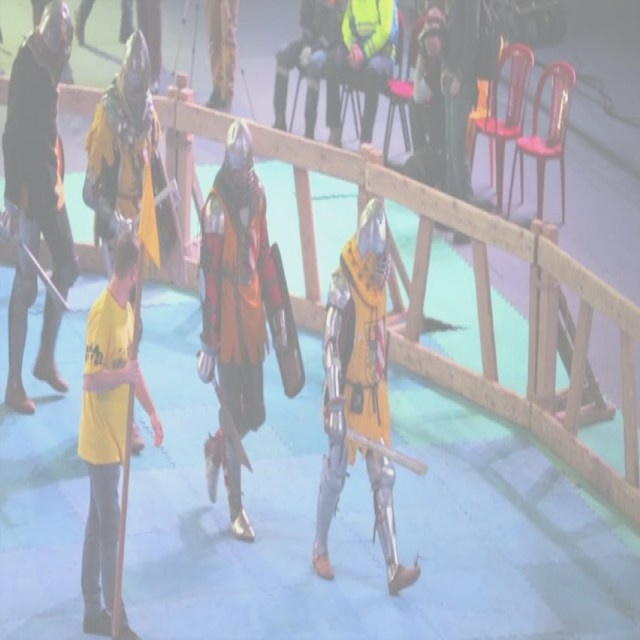pessoa: (310, 193, 422, 598), (196, 116, 289, 544), (80, 22, 164, 454), (76, 228, 164, 639), (0, 0, 84, 418), (323, 0, 394, 154), (270, 0, 339, 144), (440, 0, 480, 246), (413, 5, 447, 191), (197, 0, 246, 114), (117, 0, 162, 94), (28, 0, 96, 47)
